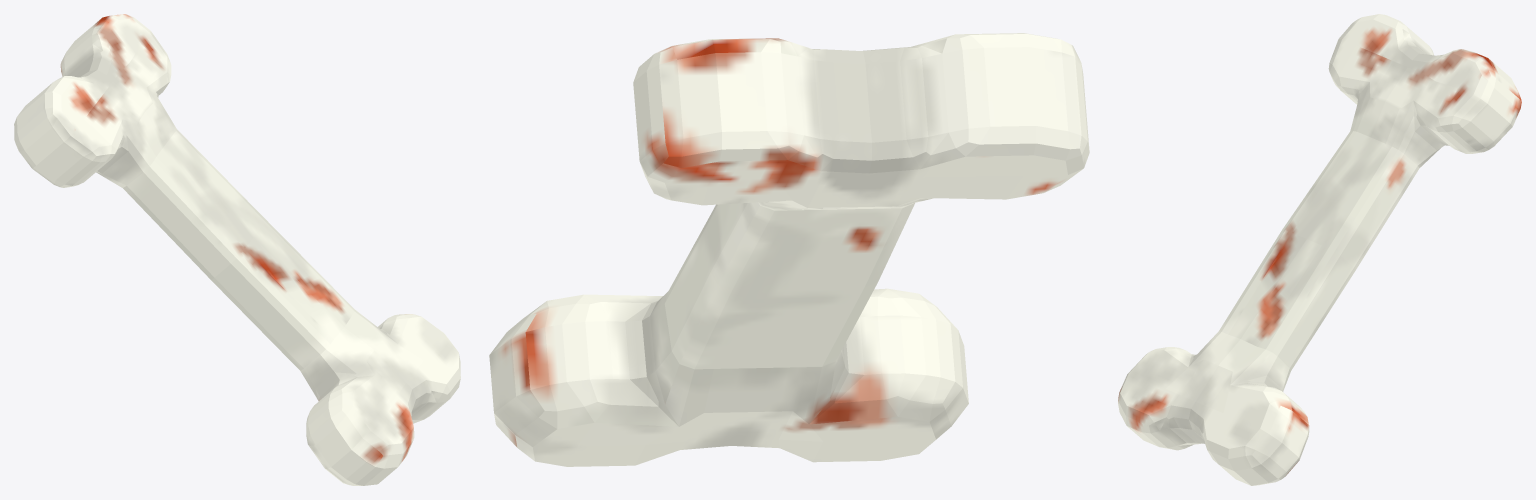
The model's file is bone.glb.
3 views of the same model, side by side, from view 1: azimuth 30°, elevation 25°; view 2: azimuth 150°, elevation 25°; view 3: azimuth 270°, elevation 25° (orthographic). The views are drawn at different scales.
Parts seen in each view (by area): view 1: Bone; view 2: Bone; view 3: Bone.
Part boxes in pixels (bbox=[...]): Bone: bbox=[14, 14, 460, 485]; Bone: bbox=[489, 33, 1089, 466]; Bone: bbox=[1118, 14, 1521, 485].
Size of the model in its own units: 1.05 by 0.977 by 1.03.
Materials: 1 (1 with a texture image).
